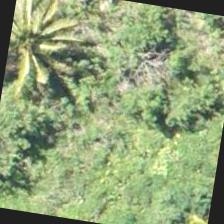Kelapa_Sawit: (6, 0, 85, 75)
